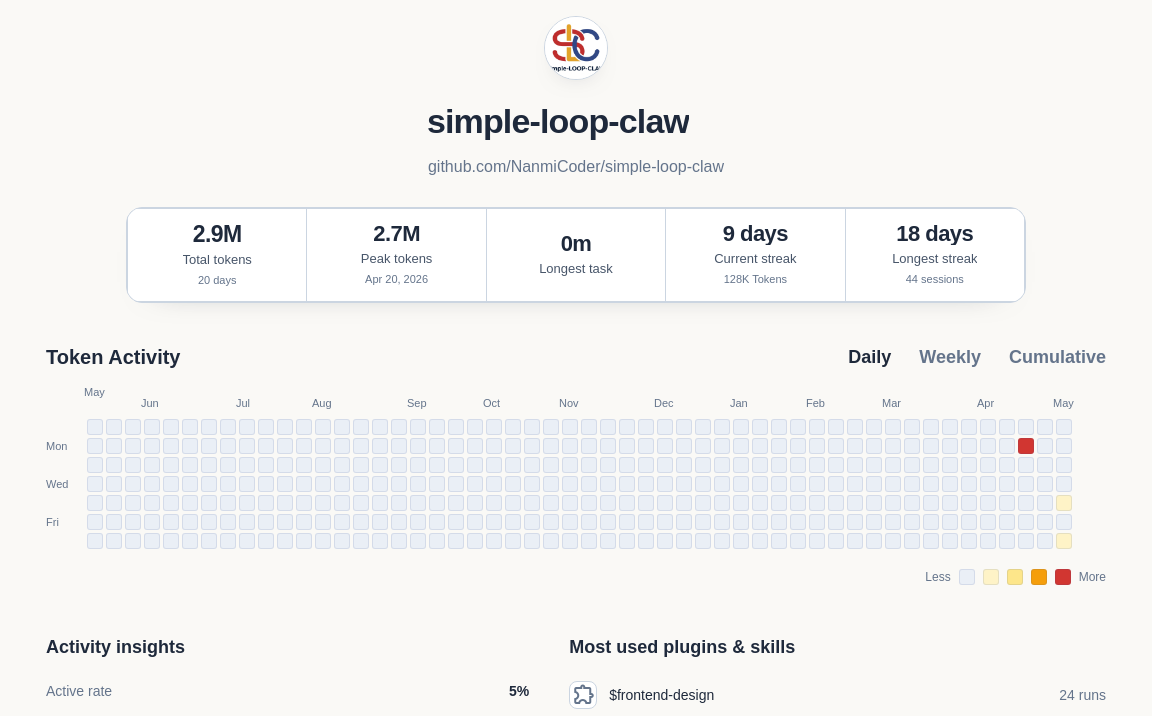
Test: ActivitySettings › shows a compact hover preview without a persistent selected-day panel
Hover over the cell named "May 9, 2026: 4 sessions · 128K Tokens".
mouse_move(1064, 541)  # box [1056, 533, 1072, 549]
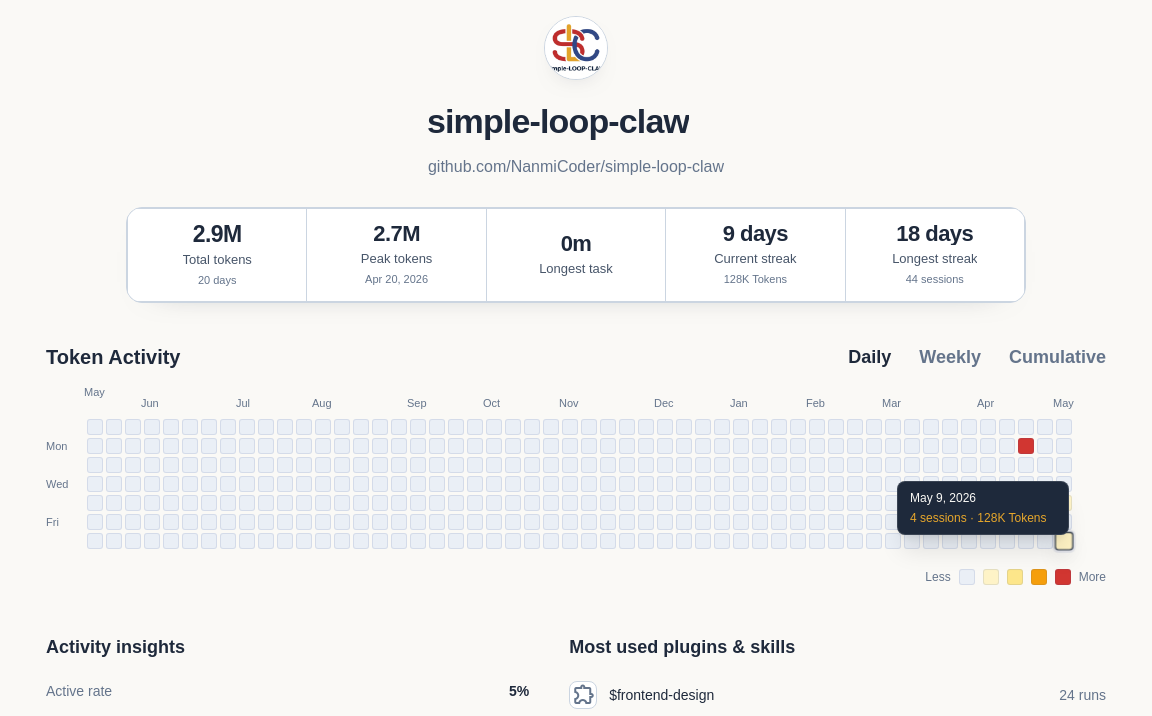
Expected: the tooltip shows "May 9, 2026", [910, 491, 976, 505]
Expected: the tooltip shows "4 sessions · 128K Tokens", [910, 511, 1046, 525]
